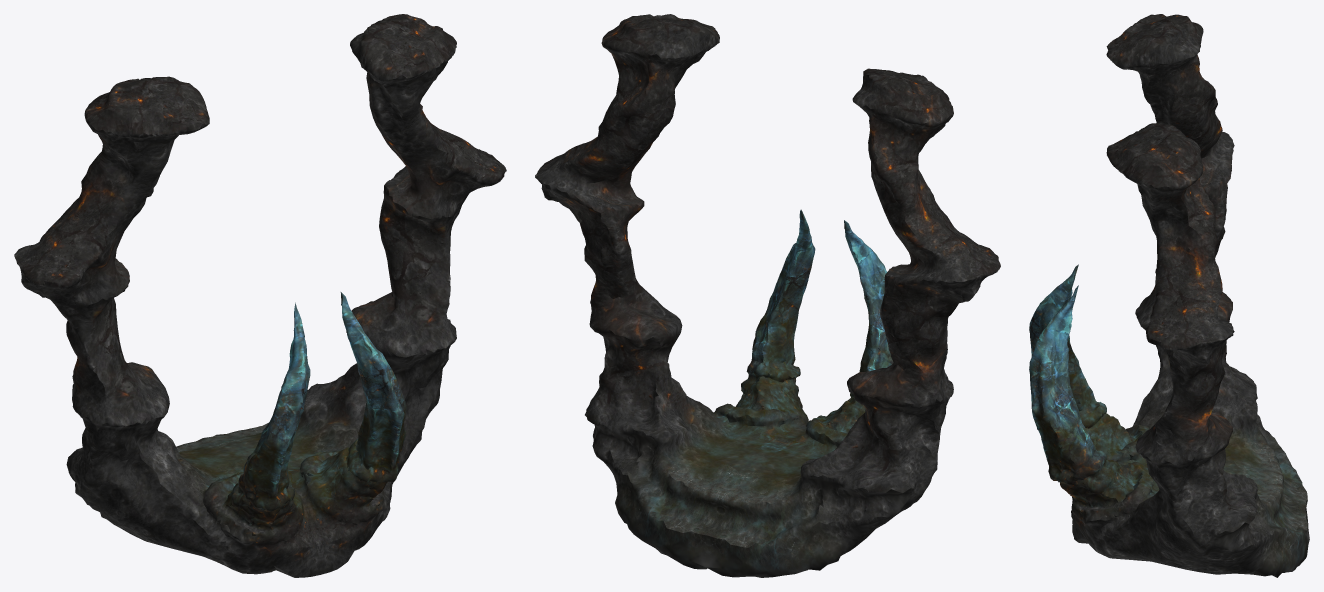
Rendered from DragonJawPortal.obj.
3 views of the same model, side by side, from view 1: azimuth 30°, elevation 25°; view 2: azimuth 150°, elevation 25°; view 3: azimuth 270°, elevation 25° (orthographic). The views are drawn at different scales.
Parts seen in each view (by area): view 1: mesh01; view 2: mesh01; view 3: mesh01.
Boxes of the visible parts, left/top/right/bottom form: mesh01: left=14, top=14, right=506, bottom=577; mesh01: left=535, top=14, right=1000, bottom=577; mesh01: left=1029, top=14, right=1309, bottom=577.
Bounding box in the file's own units: 181 × 184 × 99.46.
Materials: 1 (1 with a texture image).
